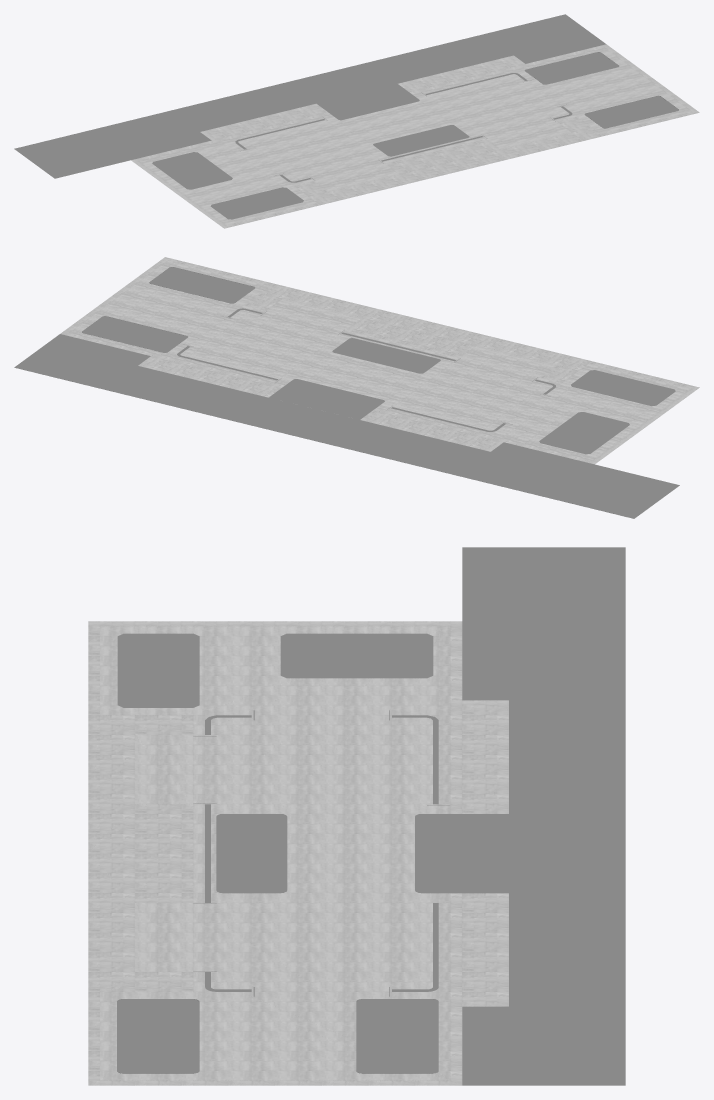
The model's file is Mice_Lobby_Dummy_Floor_01.fbx.
3 views of the same model, one above another, from view 1: azimuth 30°, elevation 25°; view 2: azimuth 150°, elevation 25°; view 3: azimuth 270°, elevation 25° (orthographic). The views are drawn at different scales.
Visible parts, largest first — view 1: Mice_Lobby_Dummy_Floor_01; view 2: Mice_Lobby_Dummy_Floor_01; view 3: Mice_Lobby_Dummy_Floor_01.
Part boxes in pixels (x1,y1,x2,y2): Mice_Lobby_Dummy_Floor_01: (14, 14, 699, 228); Mice_Lobby_Dummy_Floor_01: (14, 257, 699, 518); Mice_Lobby_Dummy_Floor_01: (88, 547, 625, 1085).
Bounding box in the file's own units: 109 × 0.01 × 46.
